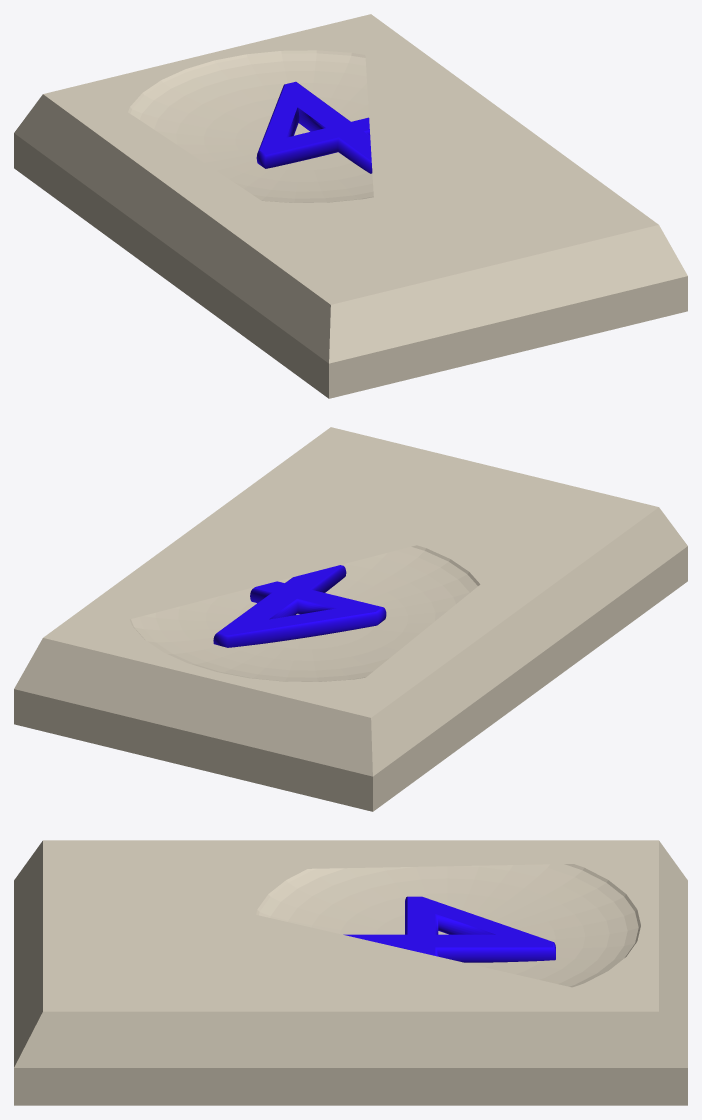
Rendered from bl4_cube_tail.fbx.
3 renders of one model, top to bottom at view 1: azimuth 30°, elevation 25°; view 2: azimuth 150°, elevation 25°; view 3: azimuth 270°, elevation 25°, orthographic. The views are drawn at different scales.
Visible parts, largest first — view 1: 큐브, 숫자; view 2: 큐브, 숫자; view 3: 큐브, 숫자.
Boxes of the visible parts, x1,y1,x2,y2 form: 큐브: [14, 14, 687, 398]; 숫자: [256, 81, 372, 173]; 큐브: [14, 427, 687, 811]; 숫자: [213, 565, 386, 647]; 큐브: [14, 840, 687, 1105]; 숫자: [343, 896, 555, 962].
Size of the model in its own units: 500 by 107 by 760.
